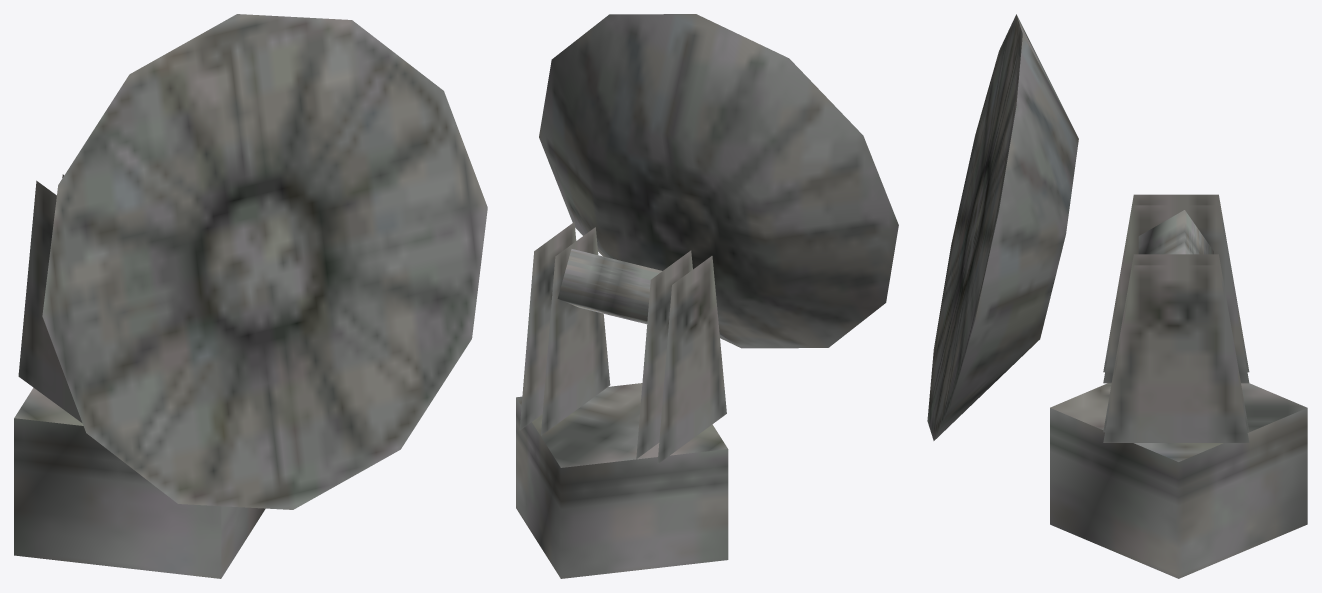
Rendered from sorosuub_space_yacht_radar_s01_l3.fbx.
The picture shows the model from 3 angles, left to right: view 1: azimuth 30°, elevation 25°; view 2: azimuth 150°, elevation 25°; view 3: azimuth 270°, elevation 25°; orthographic projection. The views are drawn at different scales.
Visible parts, largest first — view 1: mesh_node; view 2: mesh_node; view 3: mesh_node.
Boxes of the visible parts, bbox=[...] form: mesh_node: bbox=[14, 14, 487, 578]; mesh_node: bbox=[516, 14, 898, 578]; mesh_node: bbox=[927, 14, 1307, 578].
Size of the model in its own units: 3.01 by 3.73 by 2.62.
Materials: 1 (1 with a texture image).
